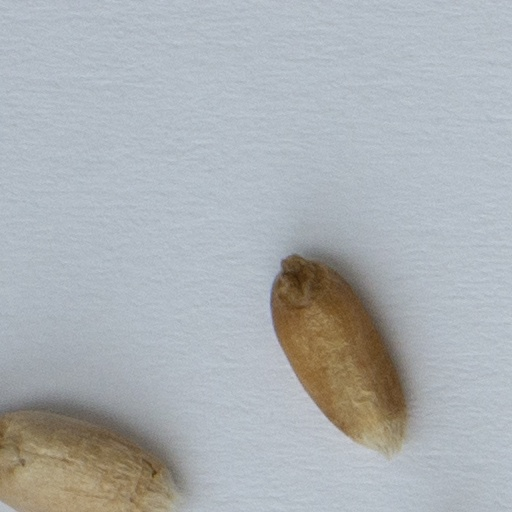Wheat-grain-poly: (268, 254, 405, 455), (0, 406, 184, 510)
